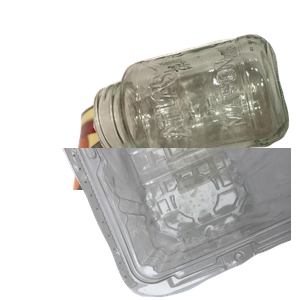glass: (91, 32, 300, 189)
metal: (69, 93, 265, 273)
plastic: (60, 148, 300, 300)
trash: (79, 123, 281, 300)
